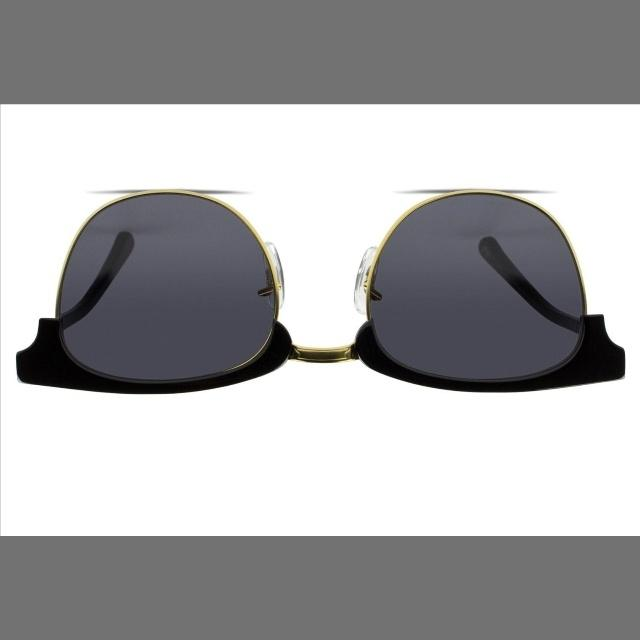Sunglasses: (14, 150, 640, 402)
